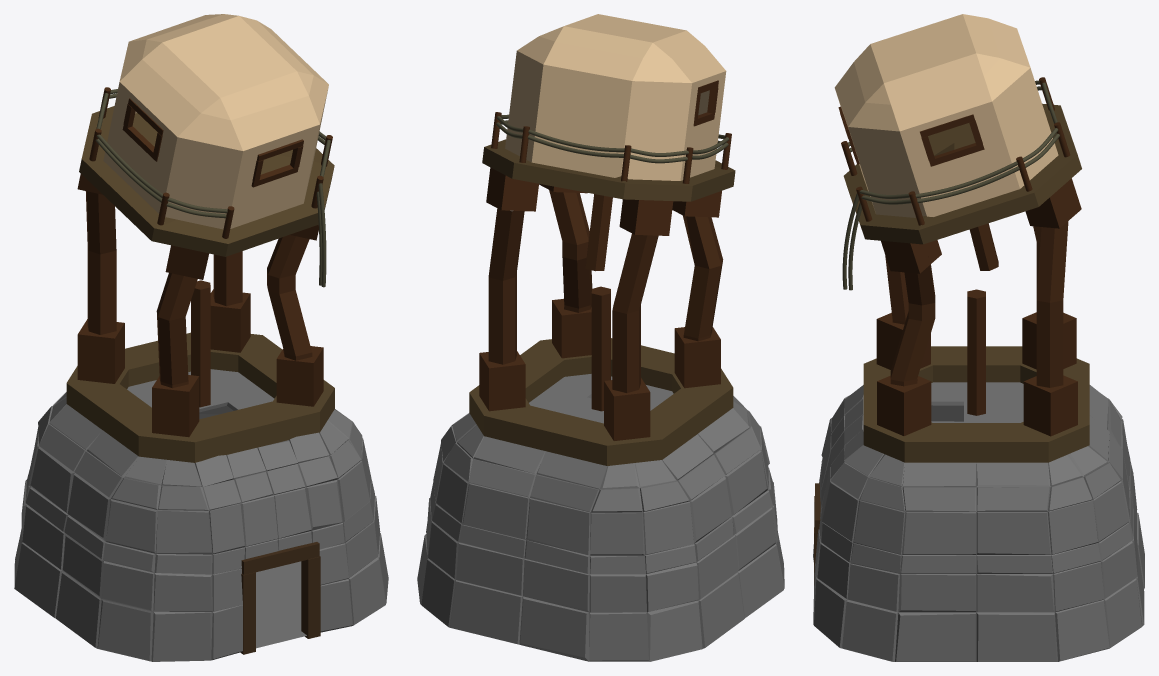
The model's file is _StoneTowerBroken.fbx.
3 renders of one model, left to right at view 1: azimuth 30°, elevation 25°; view 2: azimuth 150°, elevation 25°; view 3: azimuth 270°, elevation 25°, orthographic.
Parts seen in each view (by area): view 1: StoneTower.001; view 2: StoneTower.001; view 3: StoneTower.001.
Boxes of the visible parts, <box> form: StoneTower.001: <box>14,14,388,661</box>; StoneTower.001: <box>417,14,784,661</box>; StoneTower.001: <box>813,14,1144,661</box>.
Bounding box in the file's own units: 829 × 1517 × 817.
